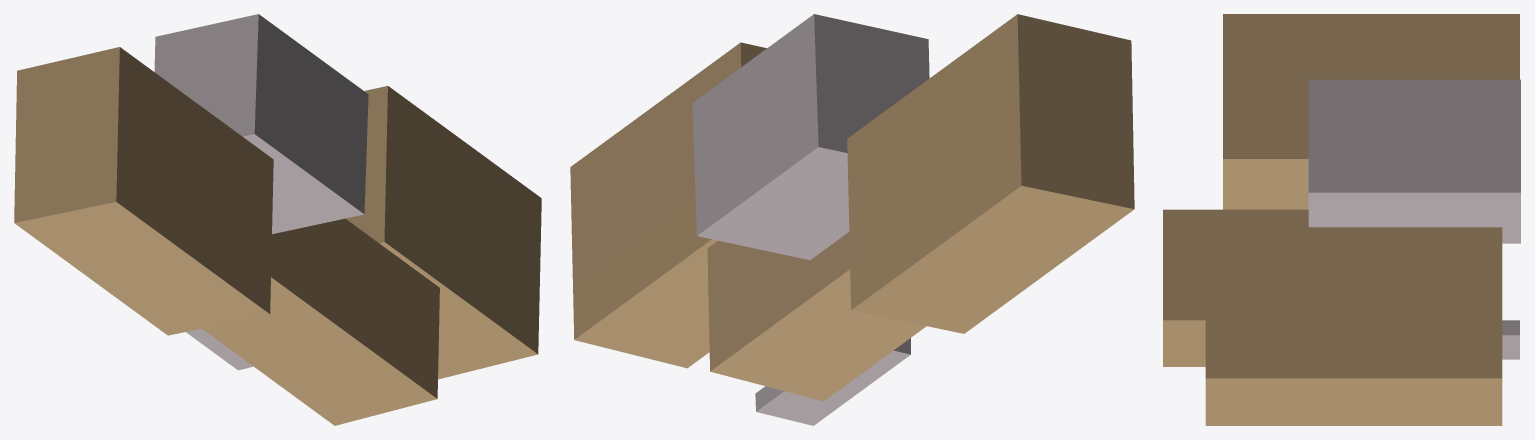
3 renders of one model, left to right at view 1: azimuth 30°, elevation 25°; view 2: azimuth 150°, elevation 25°; view 3: azimuth 270°, elevation 25°, orthographic. The views are drawn at different scales.
Visible parts, largest first — view 1: 0_2_1_3_0_0_2_3_3_1; view 2: 0_2_1_3_0_0_2_3_3_1; view 3: 0_2_1_3_0_0_2_3_3_1.
Boxes of the visible parts, x1,y1,x2,y2 form: 0_2_1_3_0_0_2_3_3_1: [14, 14, 541, 425]; 0_2_1_3_0_0_2_3_3_1: [570, 14, 1134, 425]; 0_2_1_3_0_0_2_3_3_1: [1163, 14, 1520, 425].
Bounding box in the file's own units: 28.75 × 20.18 × 25.3.
